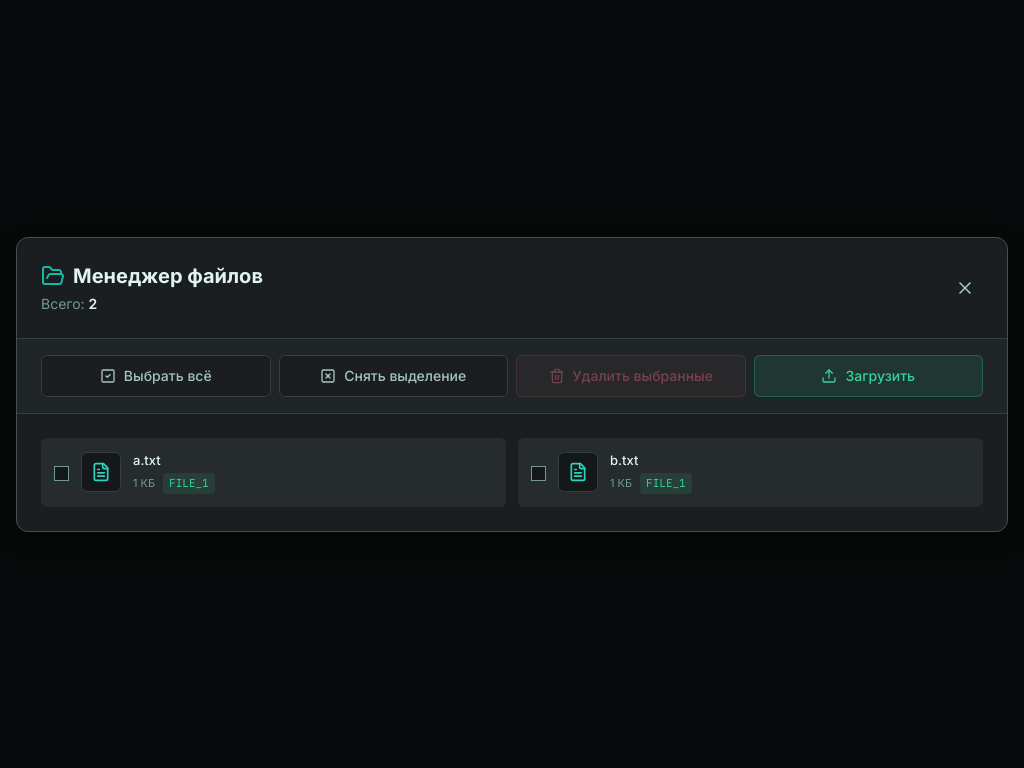
Scenario: FileManagerModal › Выбор файлов › выбирает все файлы
Expected: the text "a.txt" is shown, [133,452,161,468]
What coordinates should you click on to do the following:
click the button "Выбрать всё"
I would click on:
 (156, 376)
Its box is [41,354,270,396].
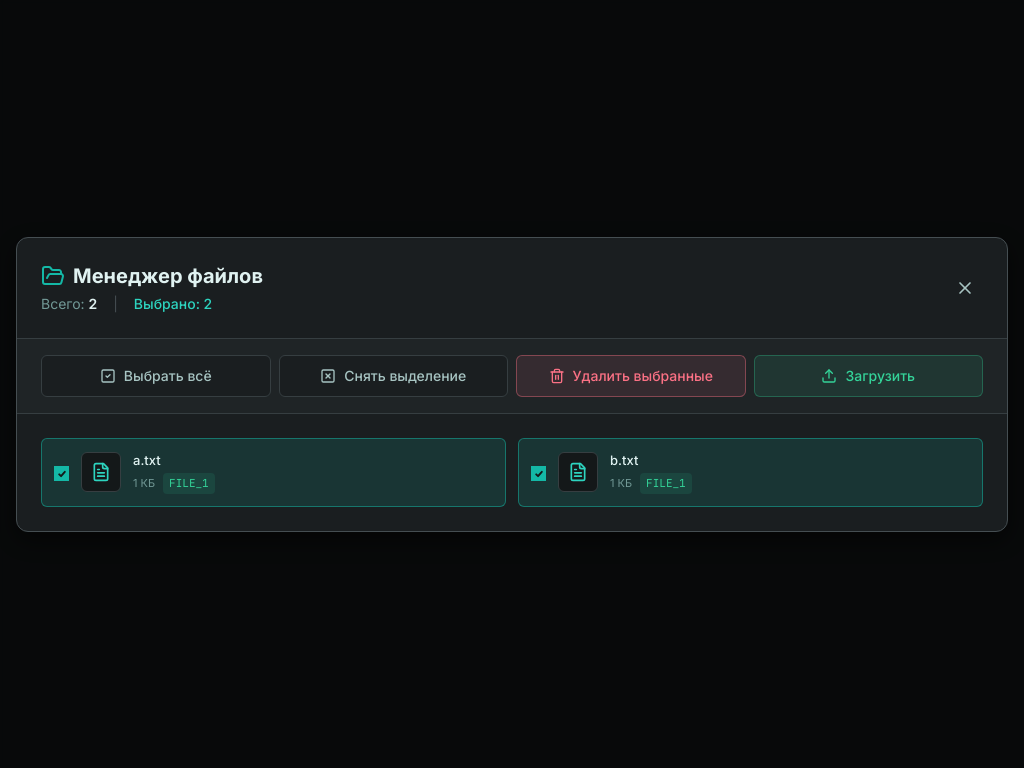
Now the text "Выбрано: 2" is shown, box [134,294,212,312]
